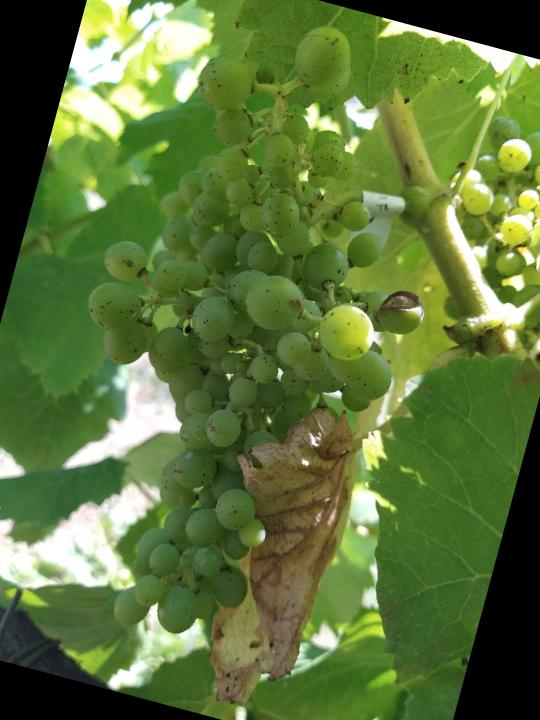grape: (5, 0, 495, 687)
